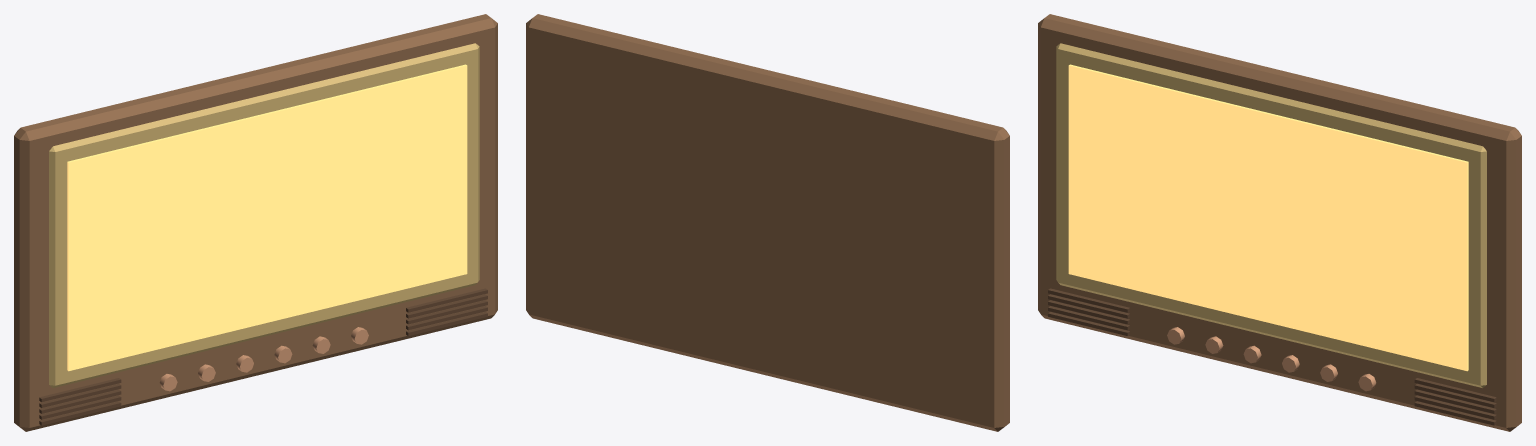
Rendered from hm_video.glb.
3 renders of one model, left to right at view 1: azimuth 30°, elevation 25°; view 2: azimuth 150°, elevation 25°; view 3: azimuth 330°, elevation 25°, orthographic.
Parts seen in each view (by area): view 1: hm_video; view 2: hm_video; view 3: hm_video.
Part boxes in pixels (left/top/right/bottom): hm_video: left=14, top=14, right=497, bottom=431; hm_video: left=526, top=14, right=1009, bottom=431; hm_video: left=1038, top=14, right=1521, bottom=431.
Bounding box in the file's own units: 3 × 1.8 × 0.2.
